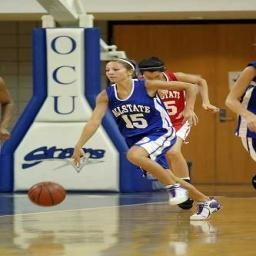ball: (28, 180, 67, 208)
human: (71, 56, 223, 223), (138, 56, 221, 182)
